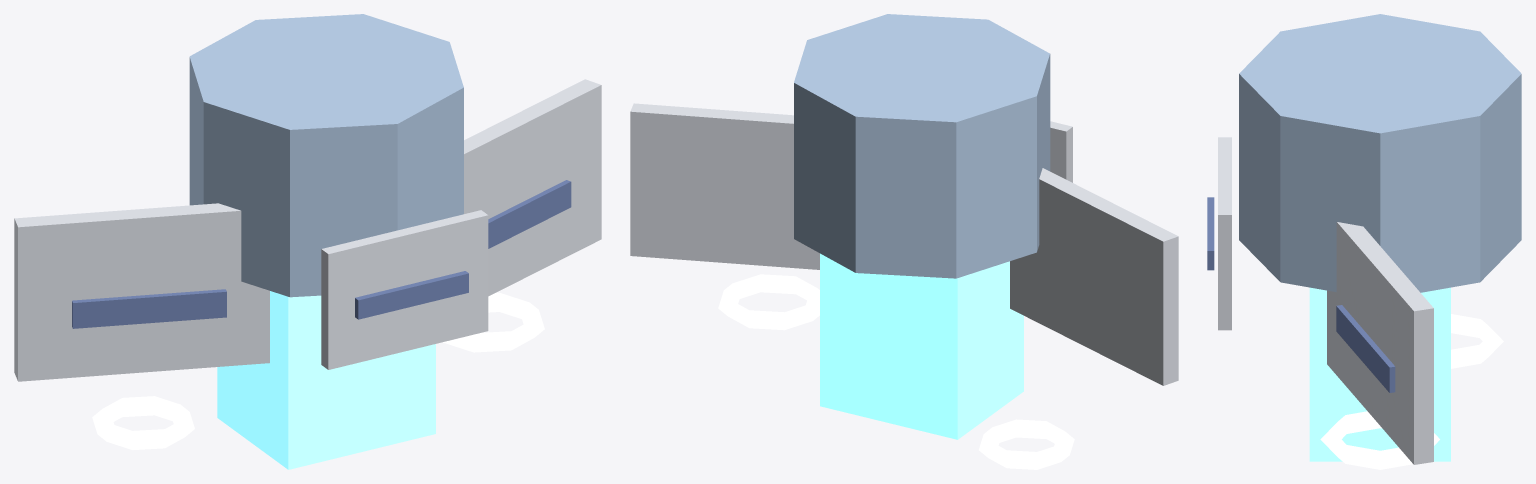
File: email_wraith.glb
The picture shows the model from 3 angles, left to right: view 1: azimuth 30°, elevation 25°; view 2: azimuth 150°, elevation 25°; view 3: azimuth 270°, elevation 25°; orthographic projection. The views are drawn at different scales.
Parts seen in each view (by area): view 1: Hood, Wing-1, Core, Wing1, Letter, WingInk-1, ClipB, LetterInk, ClipA, WingInk1; view 2: Hood, Core, Wing1, Wing-1, ClipA, ClipB, Letter; view 3: Hood, Wing1, Core, Letter, ClipA, WingInk1, ClipB, LetterInk.
Boxes of the visible parts, x1,y1,x2,y2 form: Hood: (189, 14, 463, 297); Wing-1: (14, 203, 269, 381); Core: (217, 291, 435, 469); Wing1: (464, 79, 601, 296); Letter: (321, 210, 488, 369); WingInk-1: (72, 289, 226, 328); ClipB: (92, 396, 194, 449); LetterInk: (355, 271, 468, 319); ClipA: (443, 292, 544, 352); WingInk1: (488, 180, 571, 248); Hood: (794, 14, 1050, 278); Core: (820, 253, 1023, 439); Wing1: (630, 103, 819, 269); Wing-1: (1010, 168, 1178, 385); ClipA: (718, 274, 819, 330); ClipB: (979, 419, 1074, 469); Letter: (1050, 121, 1072, 182); Hood: (1239, 14, 1521, 292); Wing1: (1327, 222, 1433, 464); Core: (1309, 287, 1450, 461); Letter: (1218, 137, 1231, 330); ClipA: (1320, 411, 1439, 469); WingInk1: (1336, 305, 1395, 392); ClipB: (1451, 314, 1503, 368); LetterInk: (1207, 197, 1214, 270).
Size of the model in its own units: 0.9485 by 0.55 by 0.445.
